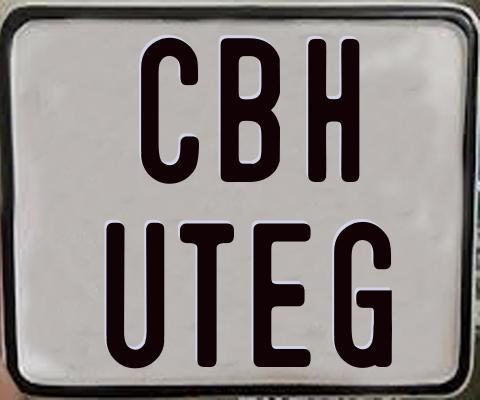B: (218, 36, 279, 185)
C: (138, 36, 198, 184)
E: (252, 221, 311, 366)
G: (333, 219, 394, 370)
H: (308, 39, 360, 188)
T: (177, 220, 236, 366)
U: (105, 220, 168, 368)
